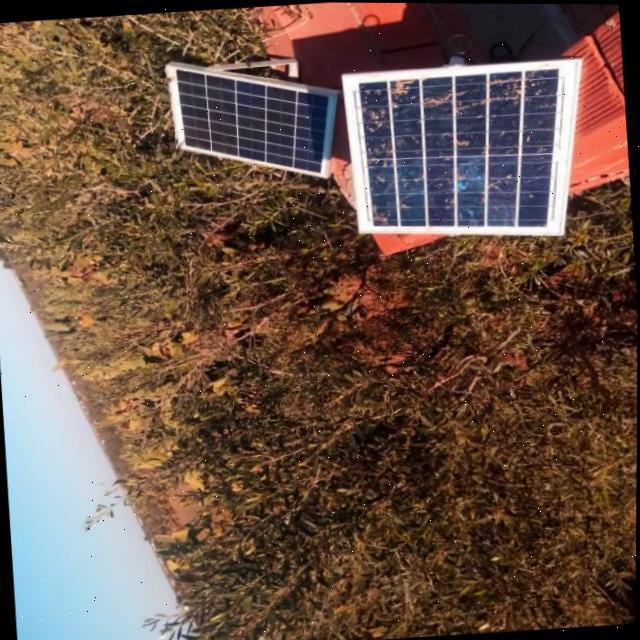Normal Solar Panel: (168, 51, 342, 184)
